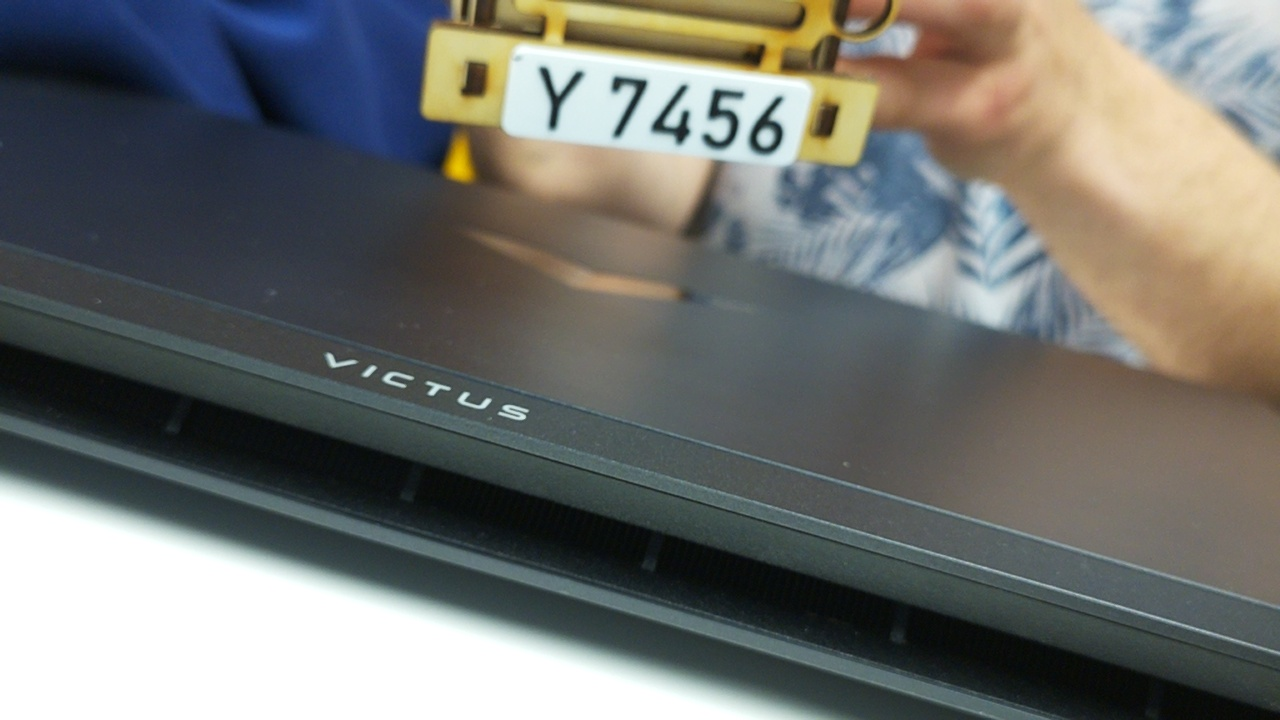license_plate: (498, 41, 816, 171)
